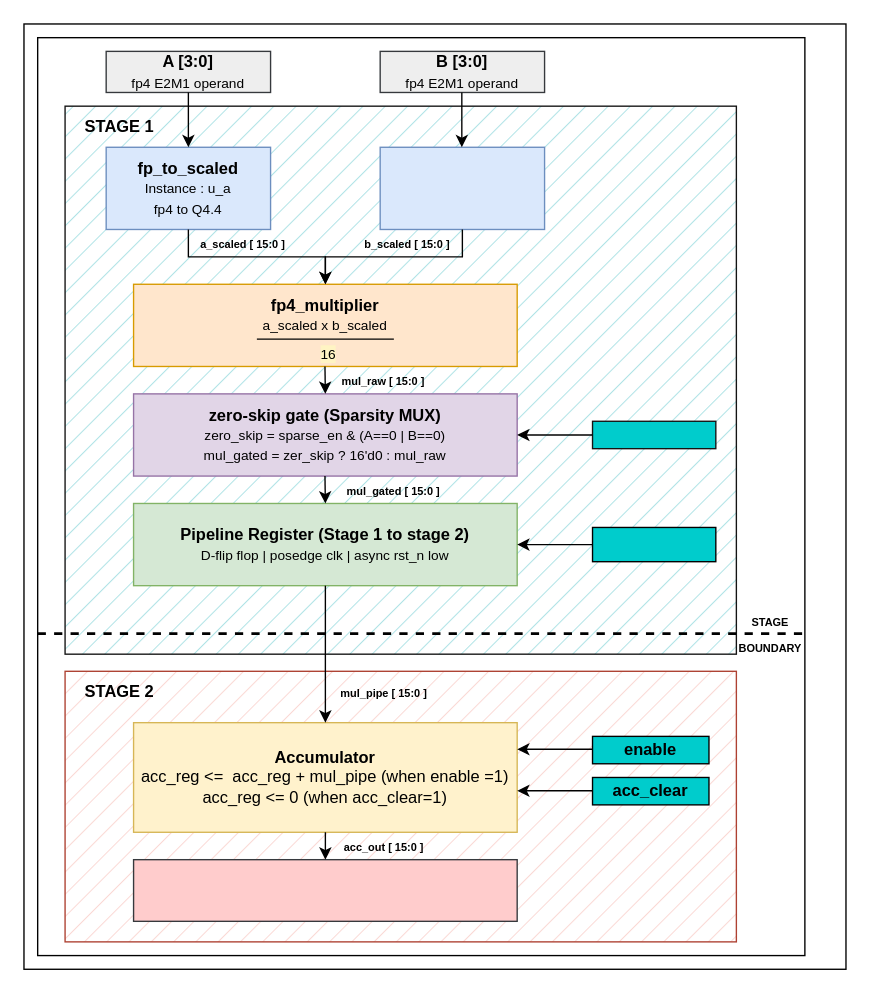
Some shapes in this 870 by 993 pixel diagram are drawn without their labels. The shapes that lost their labels are listed below. From the top down, each one's box as (x1, y1, x2, y2) in pixels, then its label:
(379, 146, 545, 229): fp_to_scaled Instance : u_b fp4 to Q4.4
(591, 420, 716, 449): sparse_en
(591, 526, 716, 562): clk / rst_n
(132, 858, 517, 921): Signed Q4.4 fixed-point result
